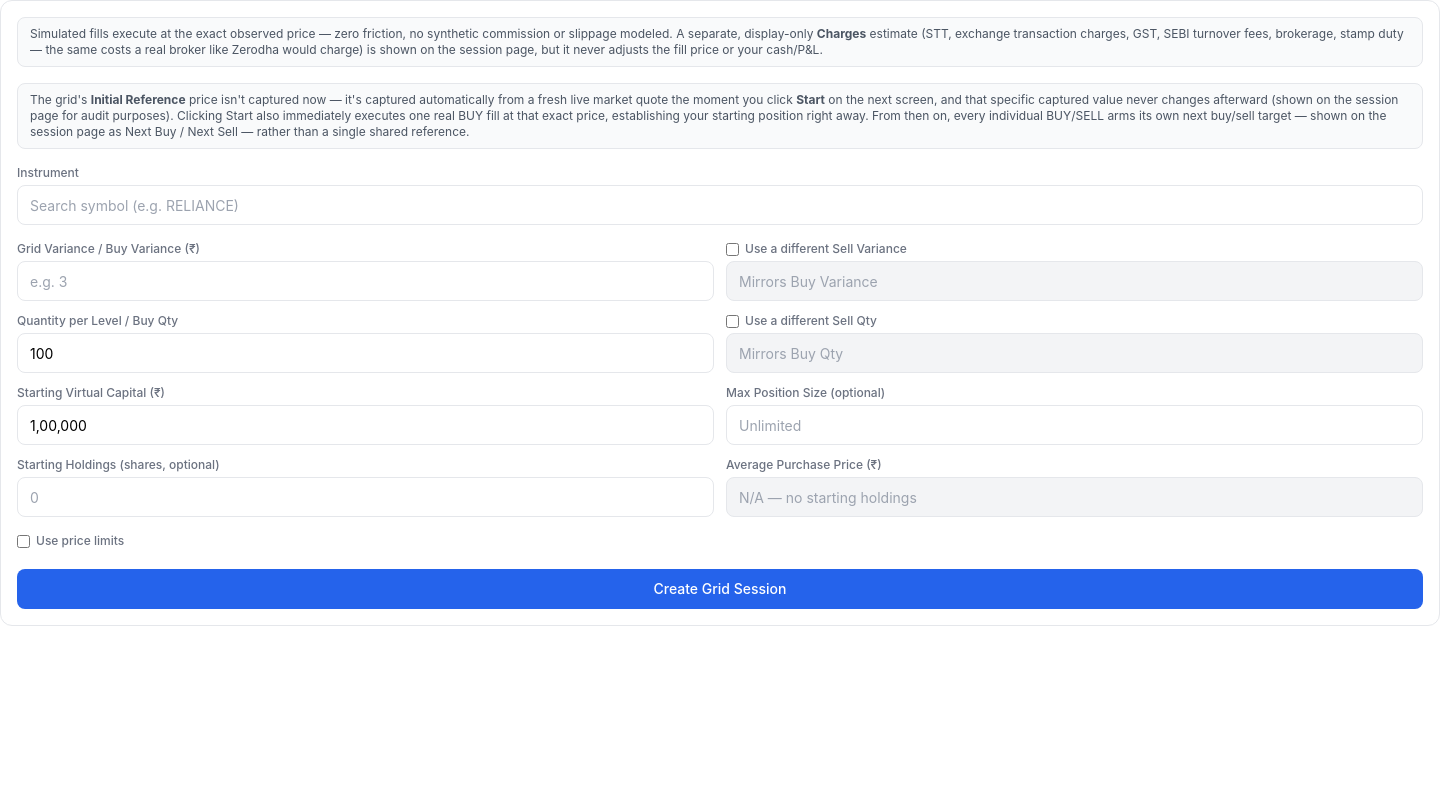
Test case: GridSimulatorCreateForm › rejects submission with no instrument selected
Step 1. Type "3" into the number field with placeholder "e.g. 3" → x=366, y=281, box 17,261 -> 714,301
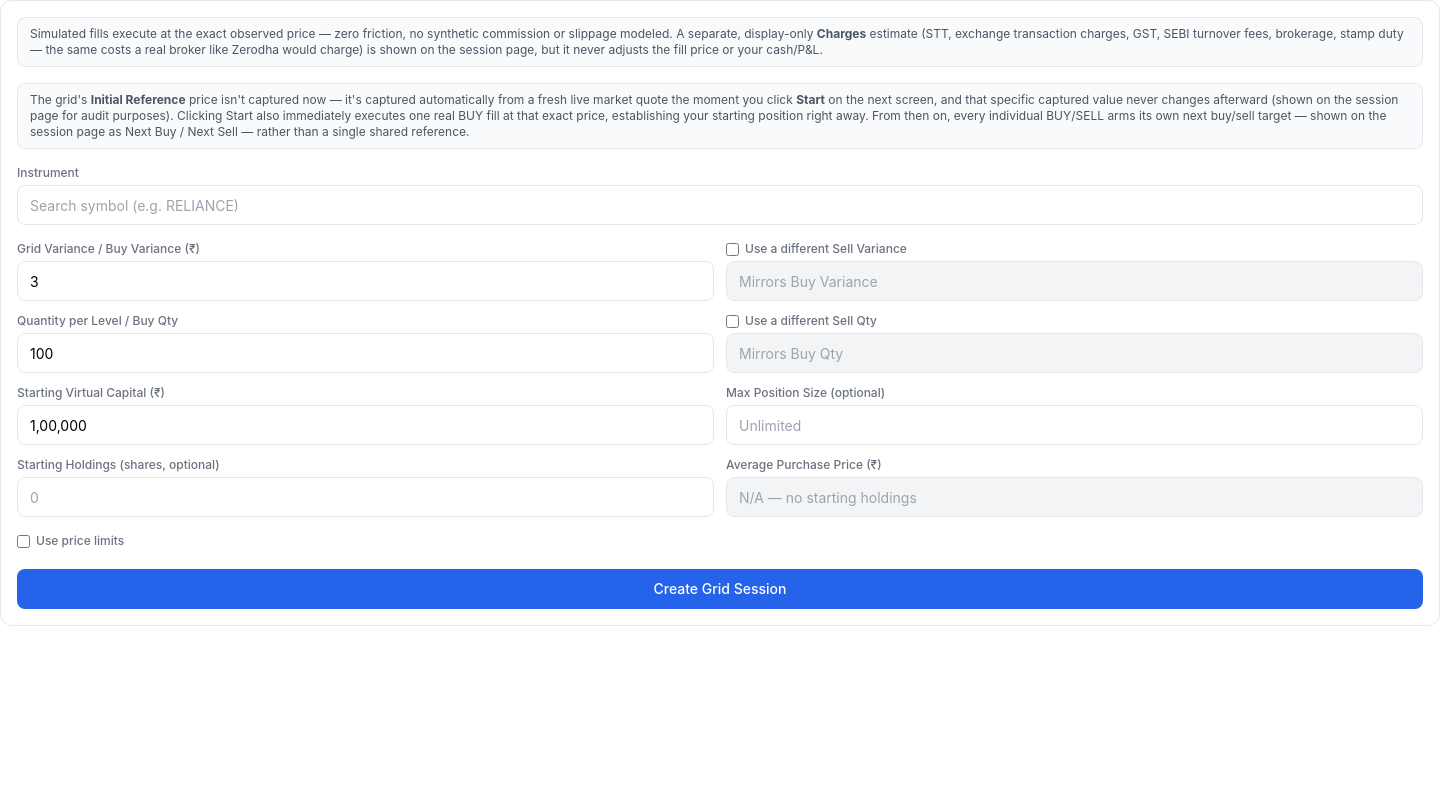
Step 2. Click the button "Create Grid Session" → x=720, y=589, box 17,569 -> 1423,609
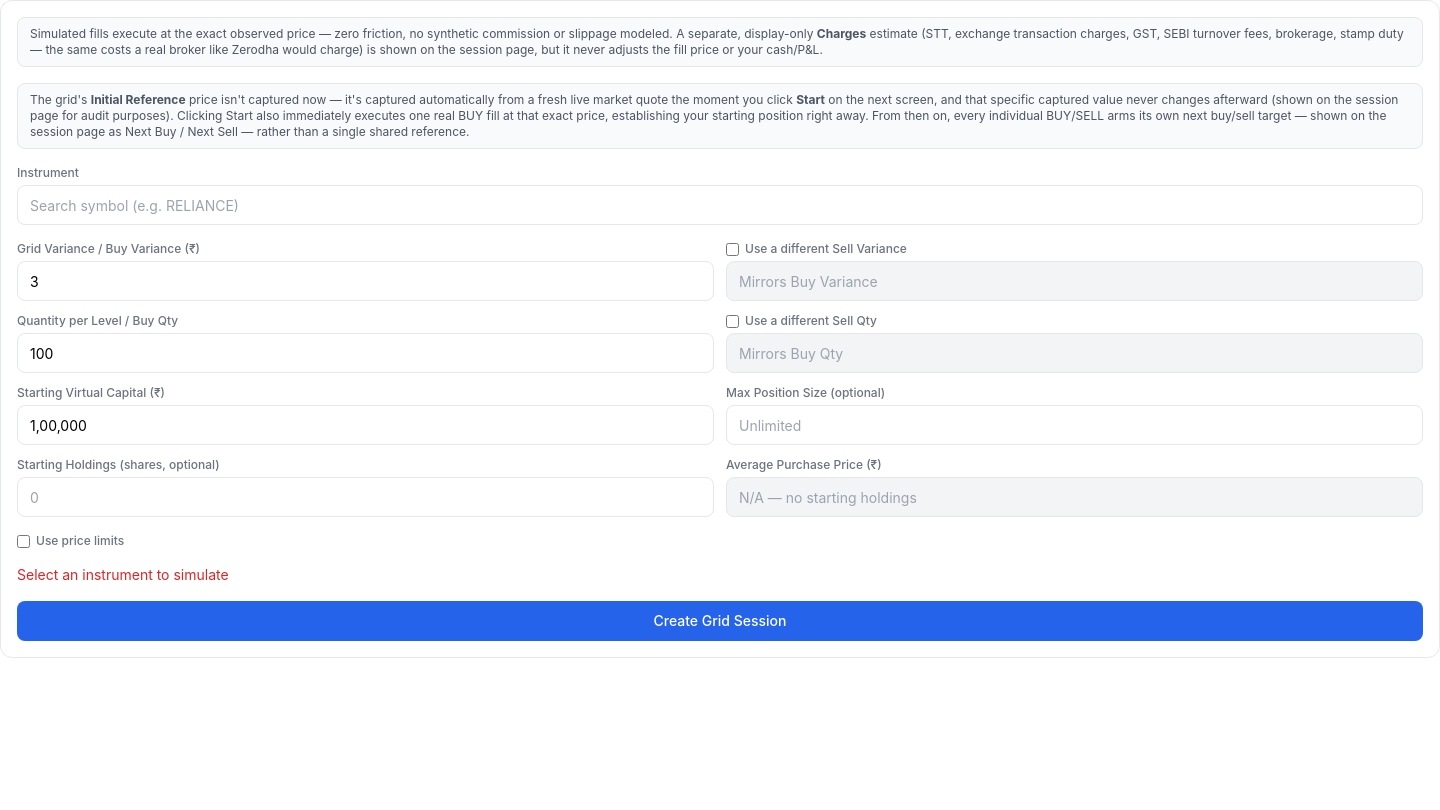
expect the text "Select an instrument to simulate" is shown: met, box 17,566 -> 229,583
